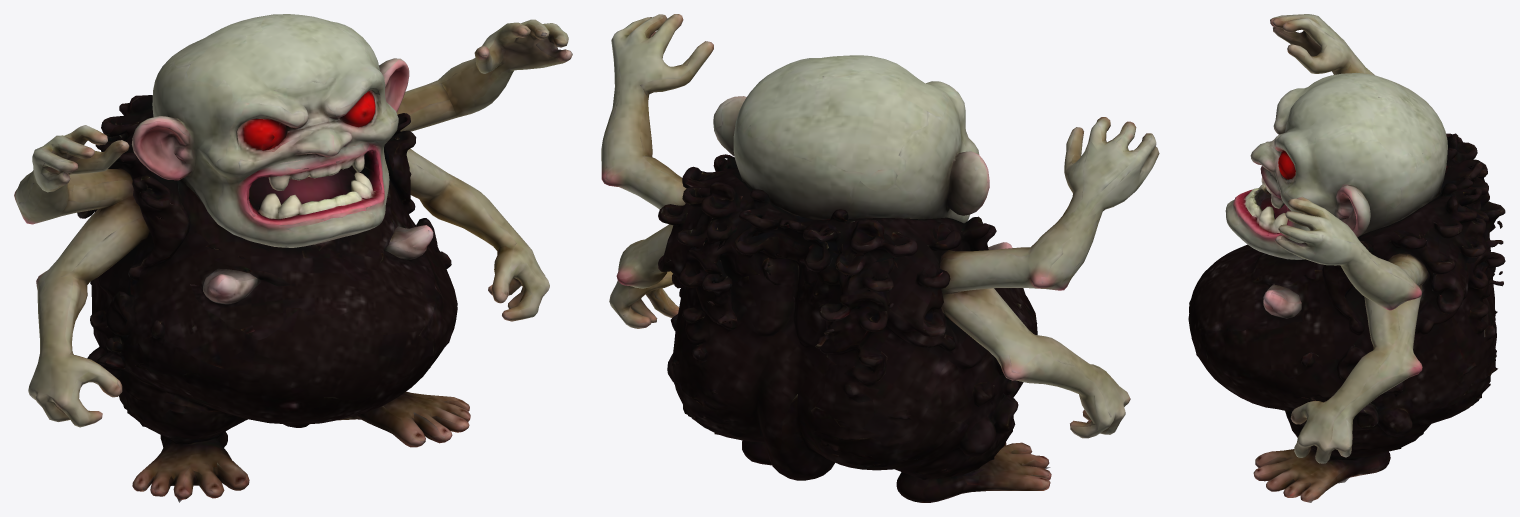
Rendered from nushi.glb.
3 views of the same model, side by side, from view 1: azimuth 30°, elevation 25°; view 2: azimuth 150°, elevation 25°; view 3: azimuth 270°, elevation 25° (orthographic). The views are drawn at different scales.
Visible parts, largest first — view 1: doll; view 2: doll; view 3: doll.
Boxes of the visible parts, x1=… form: doll: x1=14, y1=14, x2=572, y2=502; doll: x1=601, y1=14, x2=1159, y2=502; doll: x1=1188, y1=14, x2=1505, y2=502.
Size of the model in its own units: 1.37 by 1 by 0.8322.
Materials: 1 (1 with a texture image).
